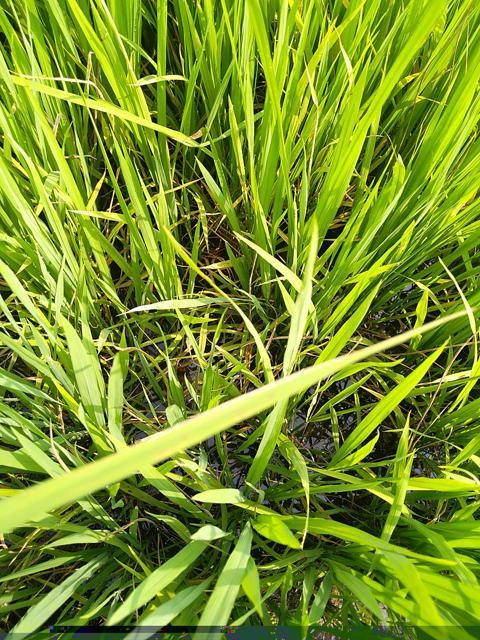Leaf Blight: (25, 312, 465, 513)
